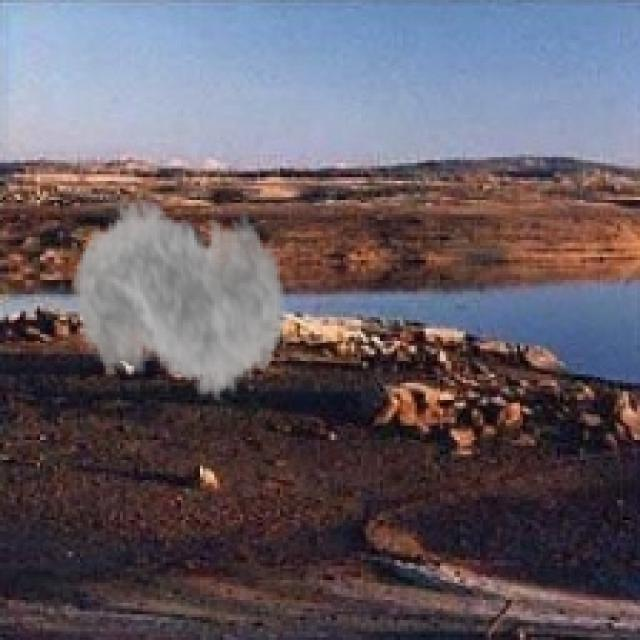smoke: (72, 174, 288, 417)
